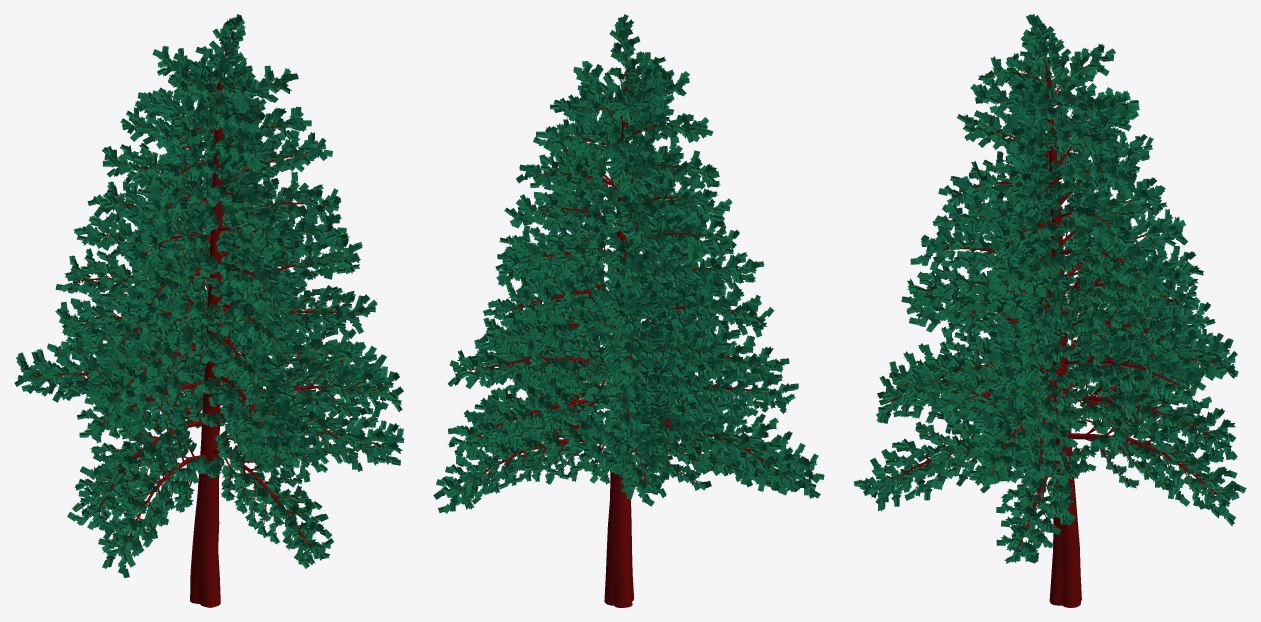
Rendered from tree1.FBX.
3 views of the same model, side by side, from view 1: azimuth 30°, elevation 25°; view 2: azimuth 150°, elevation 25°; view 3: azimuth 270°, elevation 25° (orthographic). The views are drawn at different scales.
Parts seen in each view (by area): view 1: Foliage001, Foliage002; view 2: Foliage001, Foliage002; view 3: Foliage001, Foliage002.
Part boxes in pixels (box(x1,y1,x2,y2)): Foliage001: box(14, 14, 404, 577); Foliage002: box(25, 25, 396, 607); Foliage001: box(433, 14, 824, 513); Foliage002: box(455, 35, 810, 607); Foliage001: box(853, 14, 1246, 563); Foliage002: box(864, 30, 1227, 607).
Size of the model in its own units: 108 by 179 by 107.
